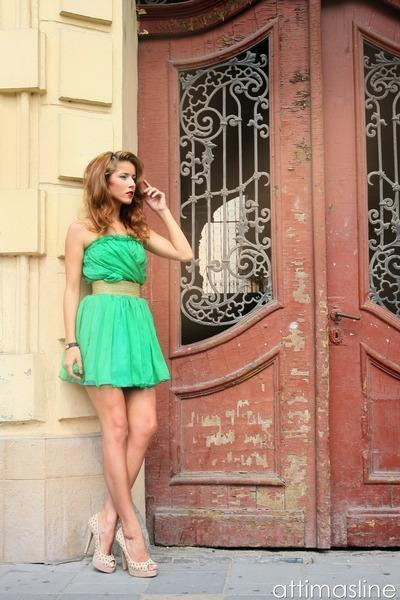dress: (58, 236, 169, 395)
shoe: (92, 540, 159, 580)
